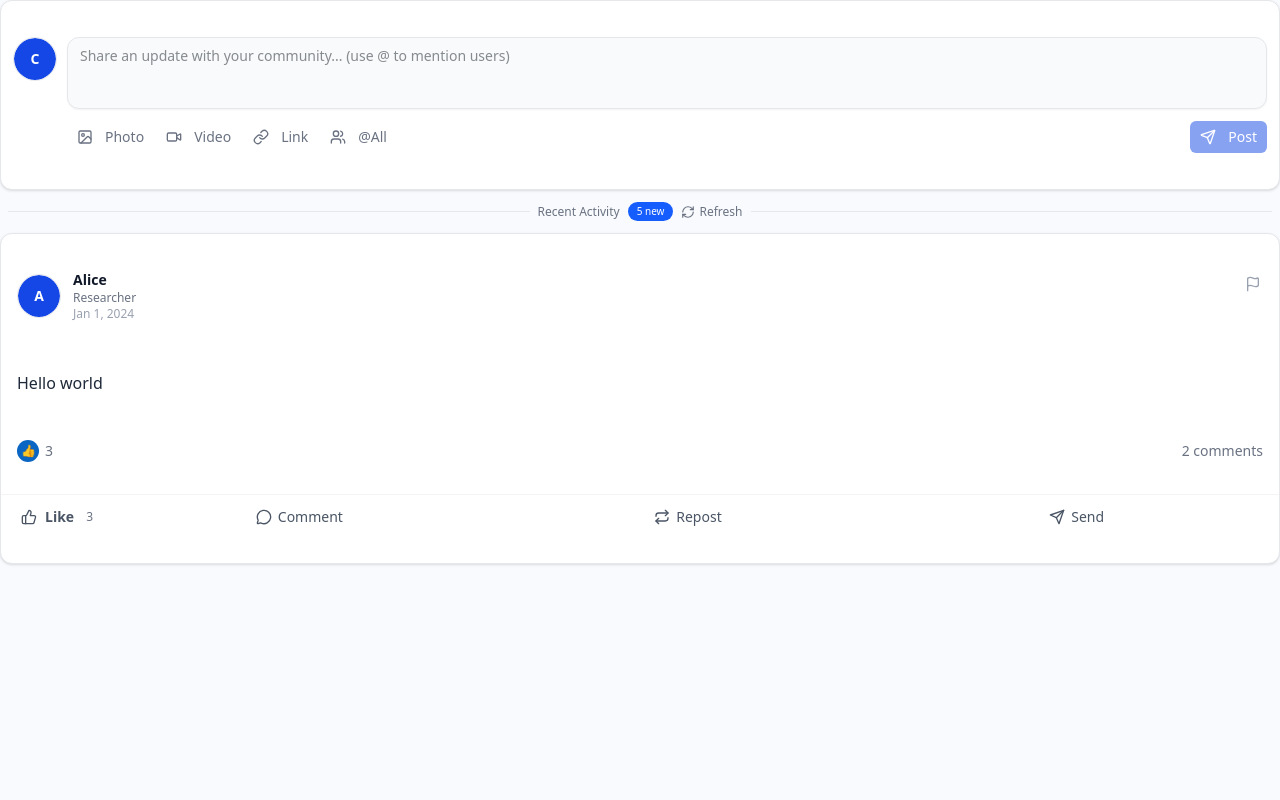
Scenario: FeedClient › unread & refresh › updates the unread badge after refresh
This screenshot has width=1280, height=800.
Expected: the text "5 new" is shown, x1=628 y1=202 x2=674 y2=221
Click the button with aria-label "refresh feed". click: (712, 212)
box: x1=682 y1=204 x2=742 y2=220
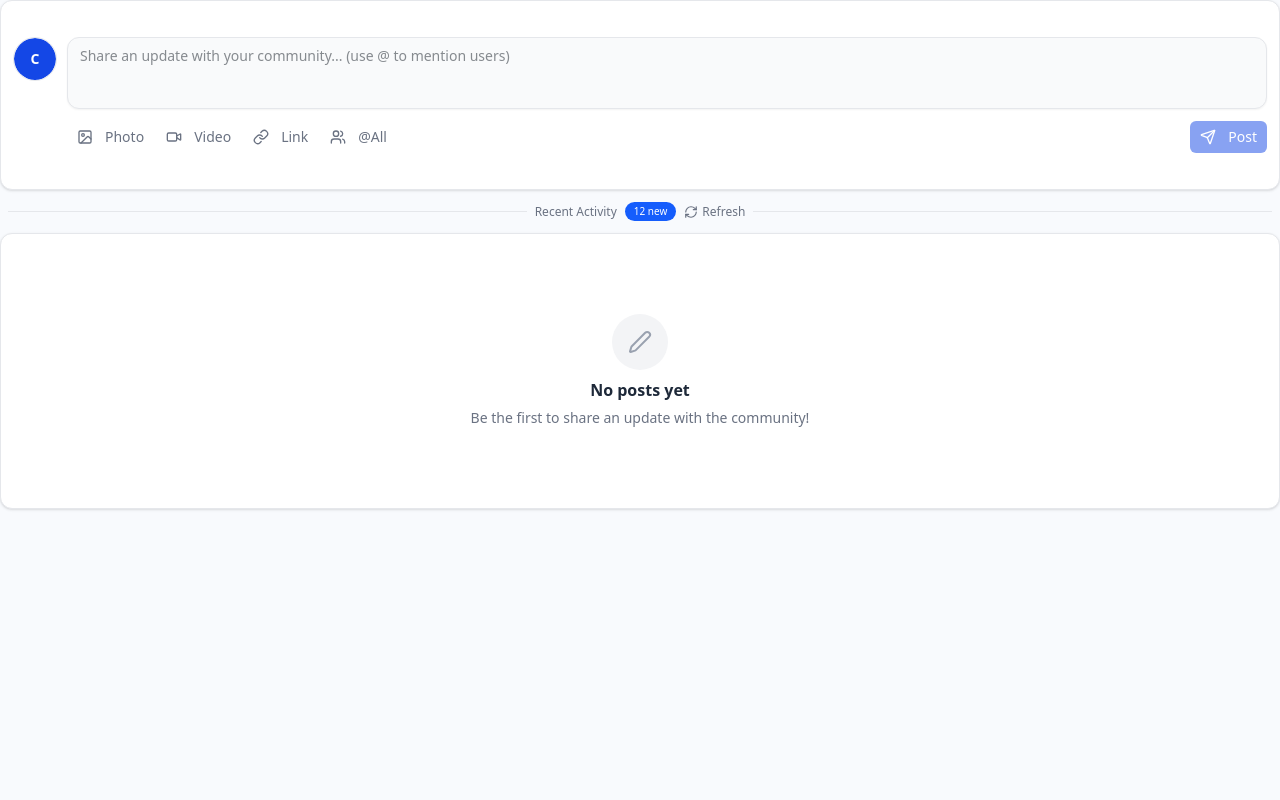
Result: the text "12 new" is shown at x1=625 y1=202 x2=676 y2=221
